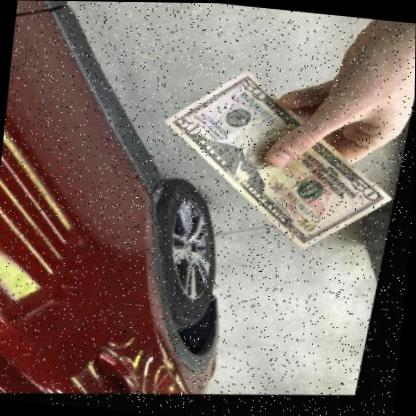fifty-front: (166, 74, 396, 255)
